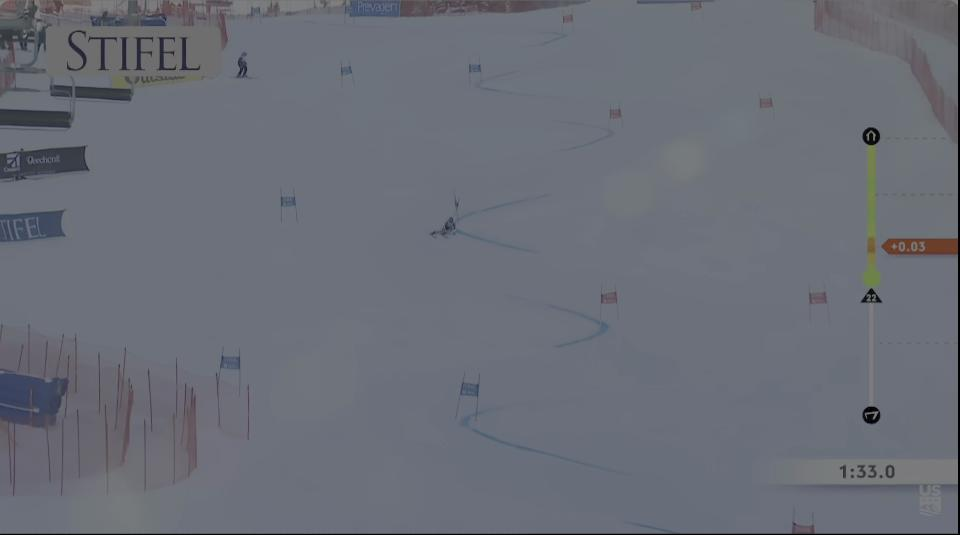gate: (455, 371, 470, 421), (472, 365, 485, 421)
